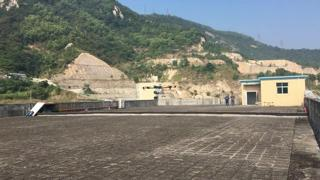UAV: (143, 84, 176, 98)
